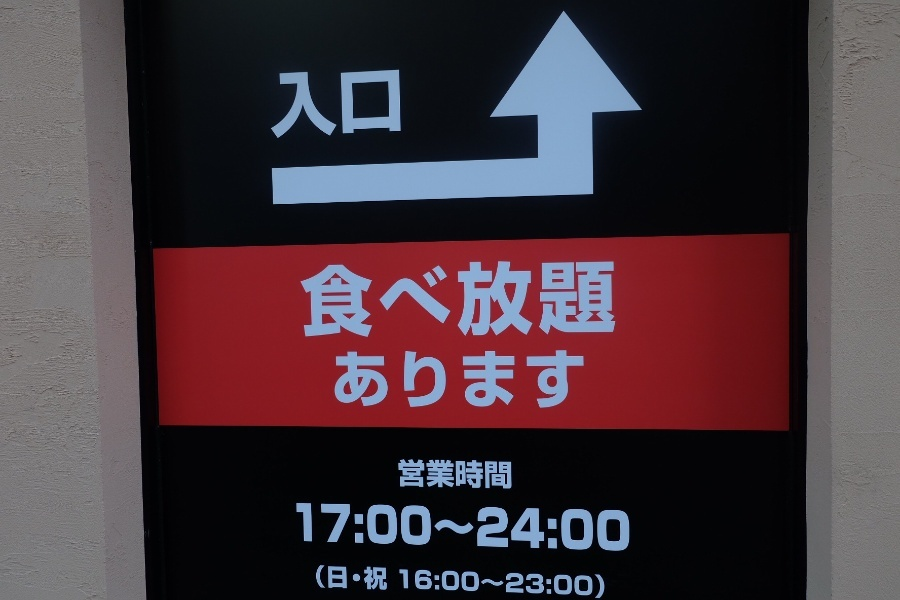text: (305, 259, 320, 339), (321, 259, 336, 339), (337, 259, 352, 339), (353, 259, 368, 339), (369, 259, 384, 339), (385, 259, 400, 339), (401, 259, 416, 339), (417, 259, 432, 339), (433, 259, 448, 339), (449, 259, 464, 339), (465, 259, 480, 339), (481, 259, 496, 339), (497, 259, 512, 339), (513, 259, 528, 339), (529, 259, 544, 339), (545, 259, 560, 339), (561, 259, 576, 339), (577, 259, 592, 339), (593, 259, 608, 339), (273, 66, 288, 140), (289, 66, 304, 140), (305, 66, 320, 140), (321, 66, 336, 140), (337, 66, 352, 140), (353, 66, 368, 140), (369, 66, 384, 140), (385, 66, 400, 140), (337, 351, 352, 408), (353, 351, 368, 408), (369, 351, 384, 408), (385, 351, 400, 408), (401, 351, 416, 408), (417, 351, 432, 408), (433, 351, 448, 408), (449, 351, 464, 408), (465, 351, 480, 408), (481, 351, 496, 408), (497, 351, 512, 408), (513, 351, 528, 408), (529, 351, 544, 408), (545, 351, 560, 408), (561, 351, 576, 408), (305, 503, 320, 554), (321, 503, 336, 554), (337, 503, 352, 554), (353, 503, 368, 554), (369, 503, 384, 554), (385, 503, 400, 554), (401, 503, 416, 554), (417, 503, 432, 554), (433, 503, 448, 554), (449, 503, 464, 554), (465, 503, 480, 554), (481, 503, 496, 554), (497, 503, 512, 554), (513, 503, 528, 554), (529, 503, 544, 554), (545, 503, 560, 554), (561, 503, 576, 554), (577, 503, 592, 554), (593, 503, 608, 554), (609, 503, 624, 554), (609, 259, 616, 339), (321, 566, 336, 599), (337, 566, 352, 599), (353, 566, 368, 599), (369, 566, 384, 599), (385, 566, 400, 599), (401, 566, 416, 599), (417, 566, 432, 599), (433, 566, 448, 599), (449, 566, 464, 599), (465, 566, 480, 599), (481, 566, 496, 599), (497, 566, 512, 599), (513, 566, 528, 599), (529, 566, 544, 599), (545, 566, 560, 599), (561, 566, 576, 599), (577, 566, 592, 599), (577, 351, 585, 408), (401, 460, 416, 490), (417, 460, 432, 490), (433, 460, 448, 490), (449, 460, 464, 490), (465, 460, 480, 490), (481, 460, 496, 490), (497, 460, 511, 490), (296, 503, 304, 554), (593, 566, 605, 599), (625, 503, 630, 554), (302, 259, 304, 339), (317, 566, 320, 599), (271, 66, 272, 140), (401, 66, 402, 140), (398, 460, 400, 490), (335, 351, 336, 408)
